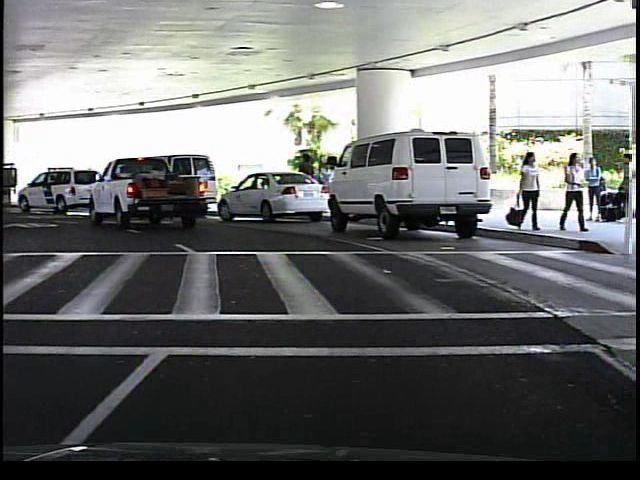person: (514, 146, 545, 230), (562, 150, 591, 236), (582, 153, 609, 225), (614, 151, 637, 221), (297, 151, 320, 212)
